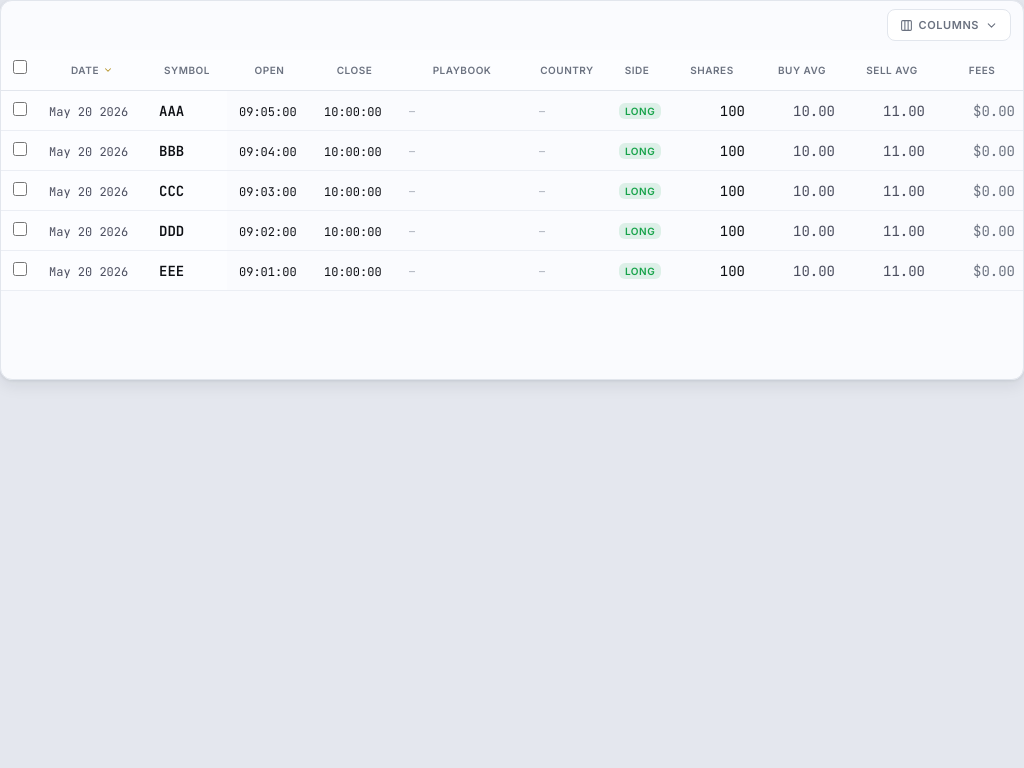
Test case: TradesTable — bulk selection › Escape with the confirm modal open closes the modal and KEEPS the selection
The image size is (1024, 768).
Click the checkbox named "Select all trades". click: [20, 67]
box: [13,60,27,74]
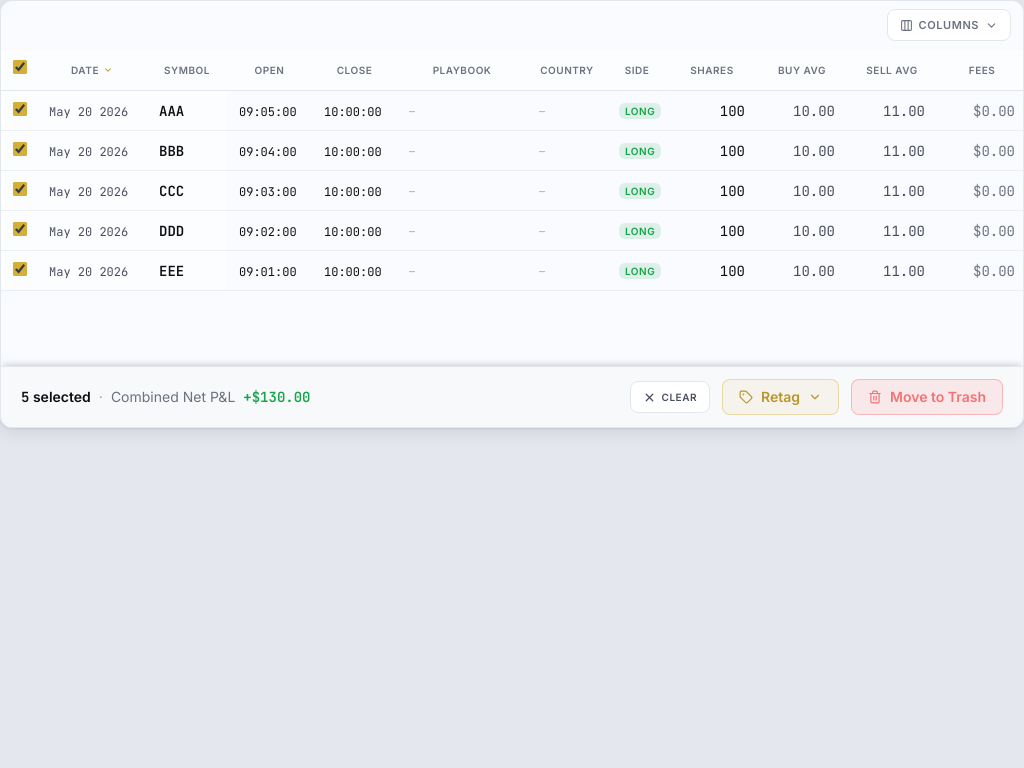
Click the button "Move to Trash". click: [927, 397]
box: [851,379,1003,415]
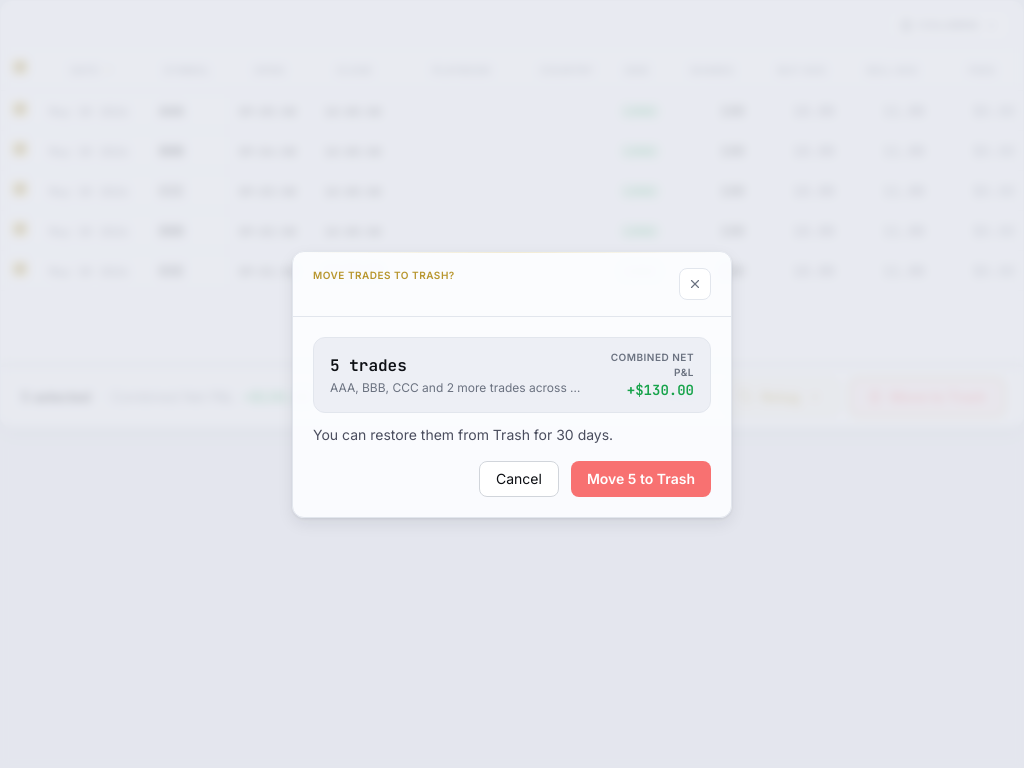
Result: the text "You can restore them from Trash for 30 days." is shown at [313,426,613,442]
Press Escape
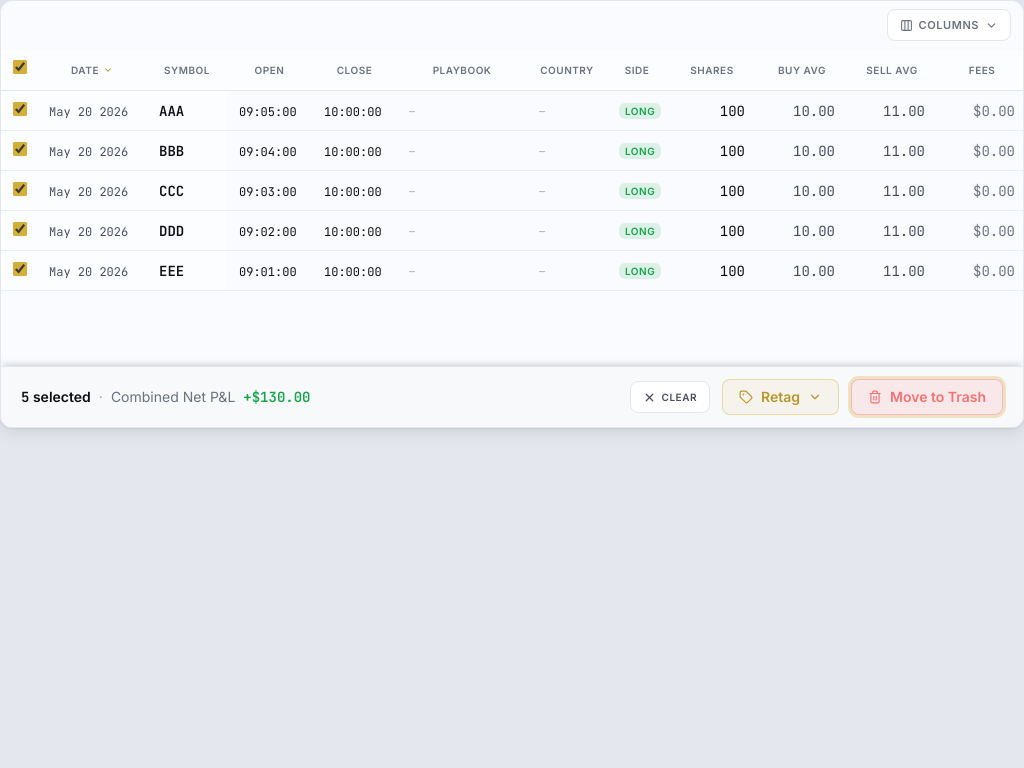
Result: the button "Move to Trash" is shown at [851,379,1003,415]
Result: the text "restore them from Trash for 30 days" is gone
